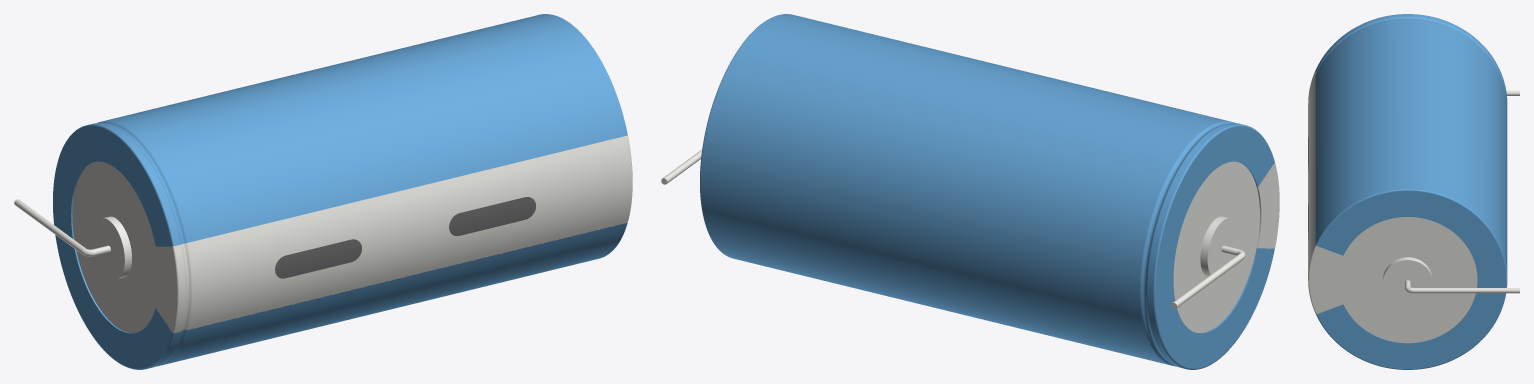
The model's file is CP_Axial_L67.0mm_D32.0mm_P75.00mm_Horizontal.glb.
3 renders of one model, left to right at view 1: azimuth 30°, elevation 25°; view 2: azimuth 150°, elevation 25°; view 3: azimuth 270°, elevation 25°, orthographic. The views are drawn at different scales.
Parts seen in each view (by area): view 1: Shape_IndexedFaceSet.009, Shape_IndexedFaceSet.049, Shape_IndexedFaceSet.006, Shape_IndexedFaceSet.064, Shape_IndexedFaceSet.018, Shape_IndexedFaceSet.028, Shape_IndexedFaceSet.041, Shape_IndexedFaceSet.062, Shape_IndexedFaceSet, Shape_IndexedFaceSet.005, Shape_IndexedFaceSet.003, Shape_IndexedFaceSet.051 (+2 smaller); view 2: Shape_IndexedFaceSet.009, Shape_IndexedFaceSet.006, Shape_IndexedFaceSet.064, Shape_IndexedFaceSet, Shape_IndexedFaceSet.041, Shape_IndexedFaceSet.005, Shape_IndexedFaceSet.062, Shape_IndexedFaceSet.003, Shape_IndexedFaceSet.007, Shape_IndexedFaceSet.051, Shape_IndexedFaceSet.063; view 3: Shape_IndexedFaceSet.009, Shape_IndexedFaceSet.012, Shape_IndexedFaceSet.059, Shape_IndexedFaceSet.046, Shape_IndexedFaceSet.057, Shape_IndexedFaceSet.049, Shape_IndexedFaceSet.011, Shape_IndexedFaceSet.055, Shape_IndexedFaceSet, Shape_IndexedFaceSet.005, Shape_IndexedFaceSet.002, Shape_IndexedFaceSet.058.
Boxes of the visible parts, x1,y1,x2,y2 form: Shape_IndexedFaceSet.009: (102, 14, 626, 365); Shape_IndexedFaceSet.049: (187, 136, 631, 329); Shape_IndexedFaceSet.006: (53, 126, 172, 368); Shape_IndexedFaceSet.064: (72, 161, 158, 332); Shape_IndexedFaceSet.018: (275, 239, 361, 278); Shape_IndexedFaceSet.028: (449, 197, 535, 236); Shape_IndexedFaceSet.041: (155, 246, 176, 331); Shape_IndexedFaceSet.062: (93, 218, 124, 279); Shape_IndexedFaceSet: (90, 123, 180, 368); Shape_IndexedFaceSet.005: (99, 122, 185, 365); Shape_IndexedFaceSet.003: (53, 124, 174, 369); Shape_IndexedFaceSet.051: (14, 199, 85, 253); Shape_IndexedFaceSet.009: (700, 14, 1230, 365); Shape_IndexedFaceSet.006: (1155, 126, 1274, 368); Shape_IndexedFaceSet.064: (1173, 161, 1259, 332); Shape_IndexedFaceSet: (1147, 123, 1242, 368); Shape_IndexedFaceSet.041: (1258, 163, 1279, 248); Shape_IndexedFaceSet.005: (1142, 122, 1232, 365); Shape_IndexedFaceSet.062: (1207, 218, 1238, 279); Shape_IndexedFaceSet.003: (1153, 124, 1274, 369); Shape_IndexedFaceSet.007: (1140, 121, 1234, 366); Shape_IndexedFaceSet.051: (1173, 253, 1244, 307); Shape_IndexedFaceSet.063: (1200, 216, 1228, 276); Shape_IndexedFaceSet.009: (1315, 19, 1507, 272); Shape_IndexedFaceSet.012: (1317, 191, 1506, 369); Shape_IndexedFaceSet.059: (1338, 217, 1477, 342); Shape_IndexedFaceSet.046: (1309, 246, 1343, 313); Shape_IndexedFaceSet.057: (1383, 260, 1432, 305); Shape_IndexedFaceSet.049: (1308, 75, 1315, 278); Shape_IndexedFaceSet.011: (1316, 189, 1507, 369); Shape_IndexedFaceSet.055: (1413, 288, 1519, 293); Shape_IndexedFaceSet: (1315, 14, 1507, 99); Shape_IndexedFaceSet.005: (1316, 17, 1503, 83); Shape_IndexedFaceSet.002: (1316, 16, 1507, 102); Shape_IndexedFaceSet.058: (1383, 257, 1432, 279).
Size of the model in its own units: 29.88 by 12.6 by 13.39.
